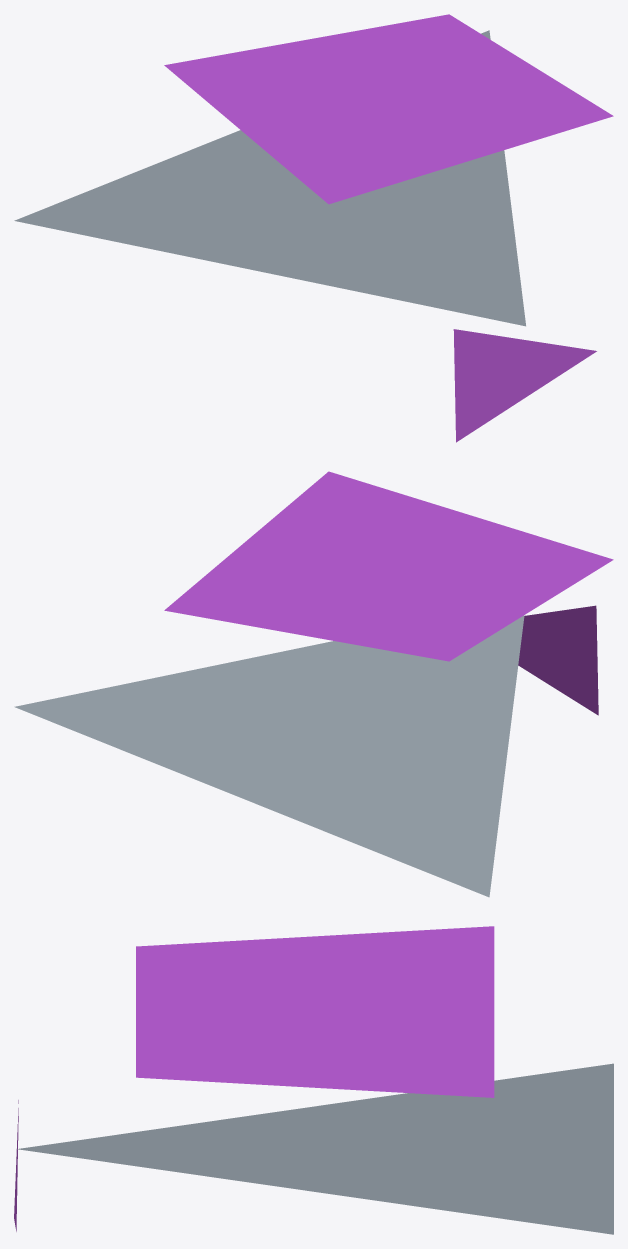
Rendered from CH_Airfield_LOD2.glb.
3 views of the same model, one above another, from view 1: azimuth 30°, elevation 25°; view 2: azimuth 150°, elevation 25°; view 3: azimuth 270°, elevation 25° (orthographic). The views are drawn at different scales.
Visible parts, largest first — view 1: EntranceGate; view 2: EntranceGate; view 3: EntranceGate.
Boxes of the visible parts, x1,y1,x2,y2 form: EntranceGate: [14, 14, 613, 442]; EntranceGate: [14, 471, 613, 897]; EntranceGate: [14, 926, 613, 1234].
Size of the model in its own units: 800 by 375 by 803.
